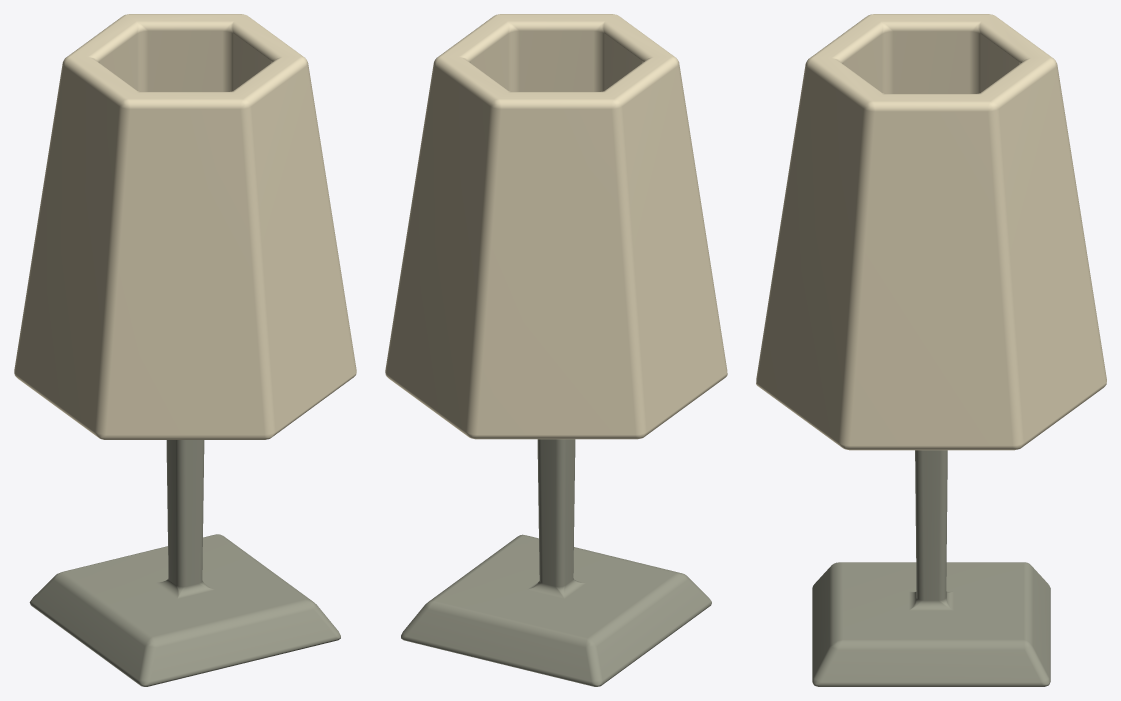
The model's file is lampRoundTable.glb.
3 renders of one model, left to right at view 1: azimuth 30°, elevation 25°; view 2: azimuth 150°, elevation 25°; view 3: azimuth 270°, elevation 25°, orthographic. The views are drawn at different scales.
Visible parts, largest first — view 1: lampRoundTable(Clone); view 2: lampRoundTable(Clone); view 3: lampRoundTable(Clone).
Part boxes in pixels (bbox=[...]): lampRoundTable(Clone): bbox=[14, 14, 356, 686]; lampRoundTable(Clone): bbox=[385, 14, 727, 686]; lampRoundTable(Clone): bbox=[756, 14, 1106, 686].
Size of the model in its own units: 0.1511 by 0.3142 by 0.1722.
